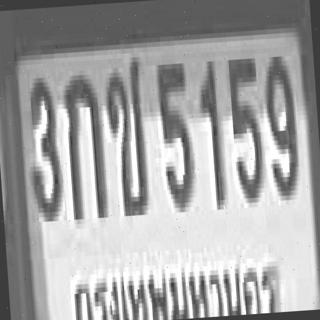A01: (61, 67, 104, 217)
A10: (102, 52, 148, 212)
N01: (194, 56, 223, 206)
N03: (24, 72, 62, 218)
N05: (154, 58, 194, 208), (225, 54, 262, 199)
N09: (261, 51, 298, 196)
P04: (69, 255, 280, 320)
